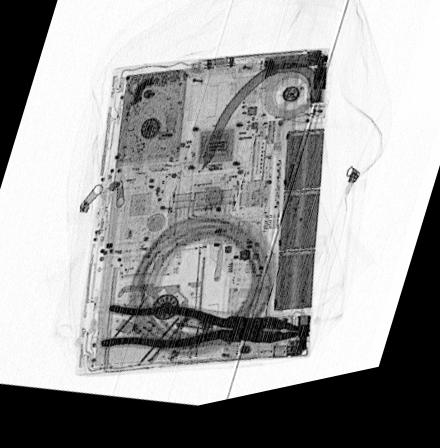Pliers: (95, 307, 303, 361)
